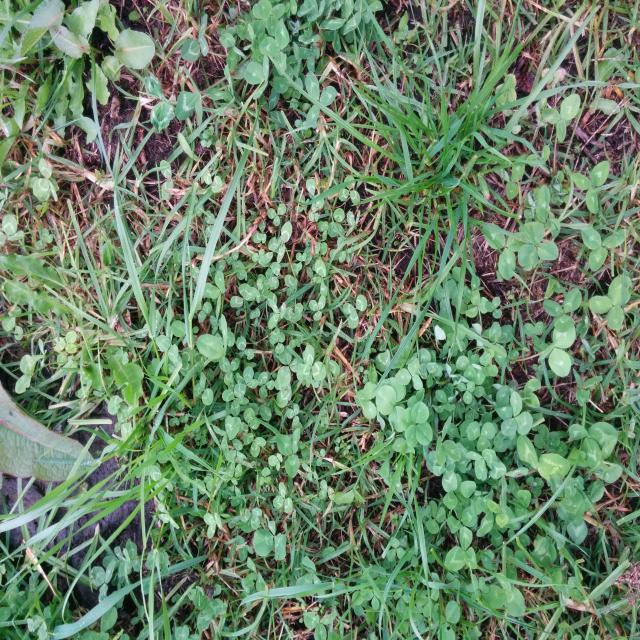Four Leaf Clover: (400, 401, 433, 448)
